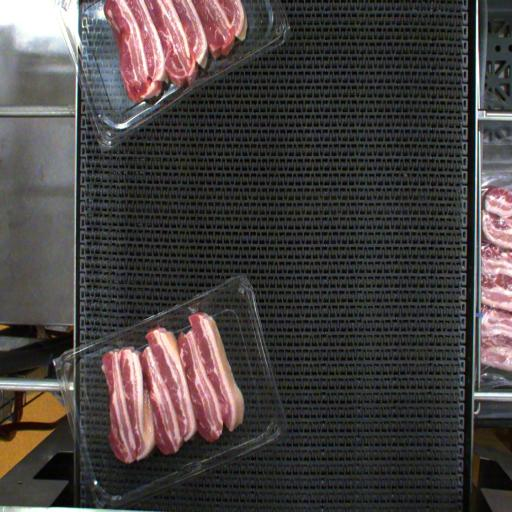packaging-error: (185, 300, 203, 316)
